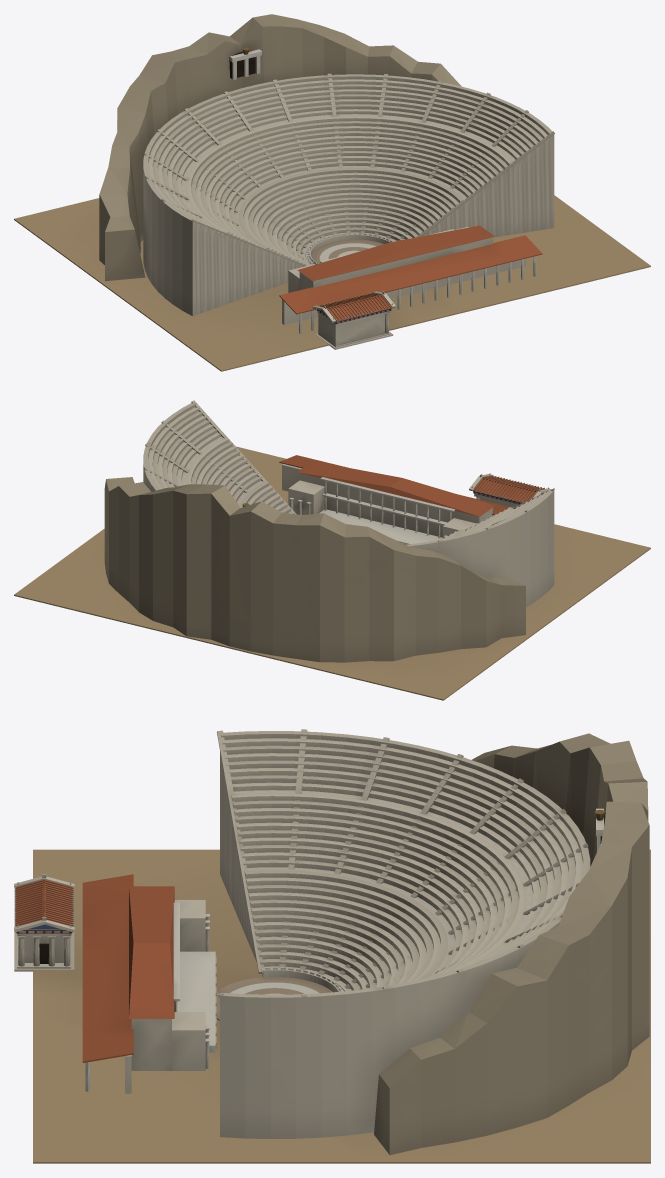
Rendered from theatre-dionysus-roman.glb.
The picture shows the model from 3 angles, top to bottom: view 1: azimuth 30°, elevation 25°; view 2: azimuth 150°, elevation 25°; view 3: azimuth 270°, elevation 25°; orthographic projection. The views are drawn at different scales.
Parts seen in each view (by area): view 1: p1_seats, p0_cavea, p3_sanctuary, p2_stage; view 2: p0_cavea, p1_seats, p2_stage, p3_sanctuary; view 3: p0_cavea, p1_seats, p3_sanctuary, p2_stage.
Boxes of the visible parts, <box> form: p1_seats: <box>143,73,554,316</box>; p0_cavea: <box>14,14,650,371</box>; p3_sanctuary: <box>229,47,542,349</box>; p2_stage: <box>288,225,494,292</box>; p0_cavea: <box>14,446,650,700</box>; p1_seats: <box>143,400,554,607</box>; p2_stage: <box>288,461,494,544</box>; p3_sanctuary: <box>240,455,551,516</box>; p0_cavea: <box>33,733,650,1163</box>; p1_seats: <box>217,729,590,1138</box>; p3_sanctuary: <box>14,808,605,1093</box>; p2_stage: <box>129,886,216,1070</box>.
Bounding box in the file's own units: 110 × 36.1 × 94.81.
